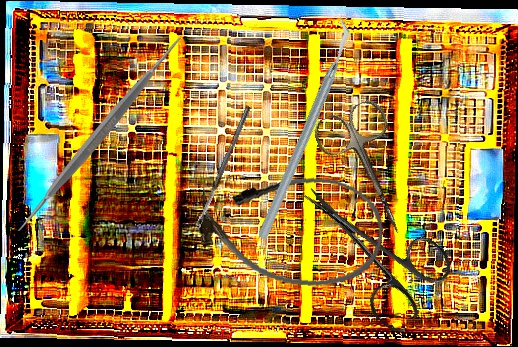Cannula: (193, 164, 388, 294)
Chopper: (189, 15, 418, 242)
Iris Scissors: (274, 157, 462, 338), (309, 95, 431, 249)
Spatula Surgical: (0, 38, 197, 231)
Surgical Spoon: (194, 104, 252, 228)
